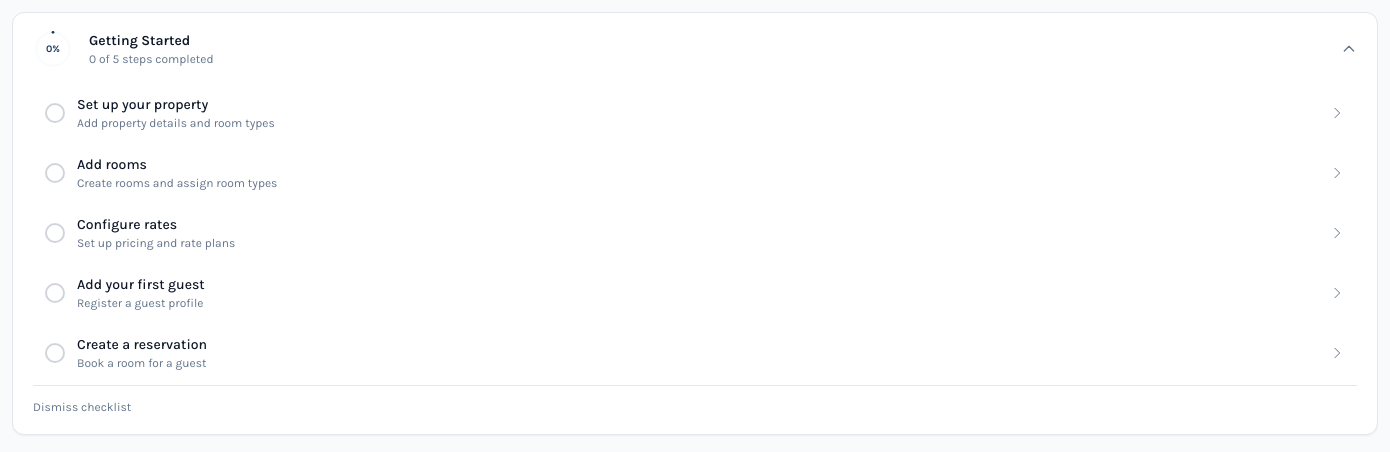
it: OnboardingChecklist › marks a step as completed when clicked
Click the link "Set up your property" at (143, 104), box x1=33 y1=85 x2=1357 y2=141
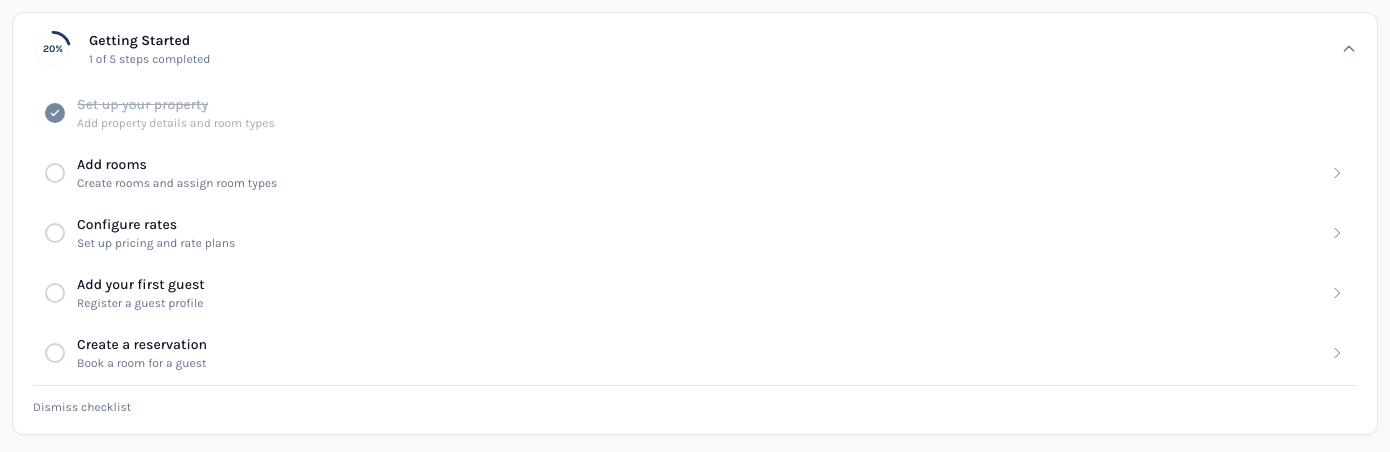
Check: the text "1 of 5 steps completed" is shown, box x1=89 y1=52 x2=210 y2=66
Check: the text "20%" is shown, box x1=43 y1=42 x2=63 y2=54
